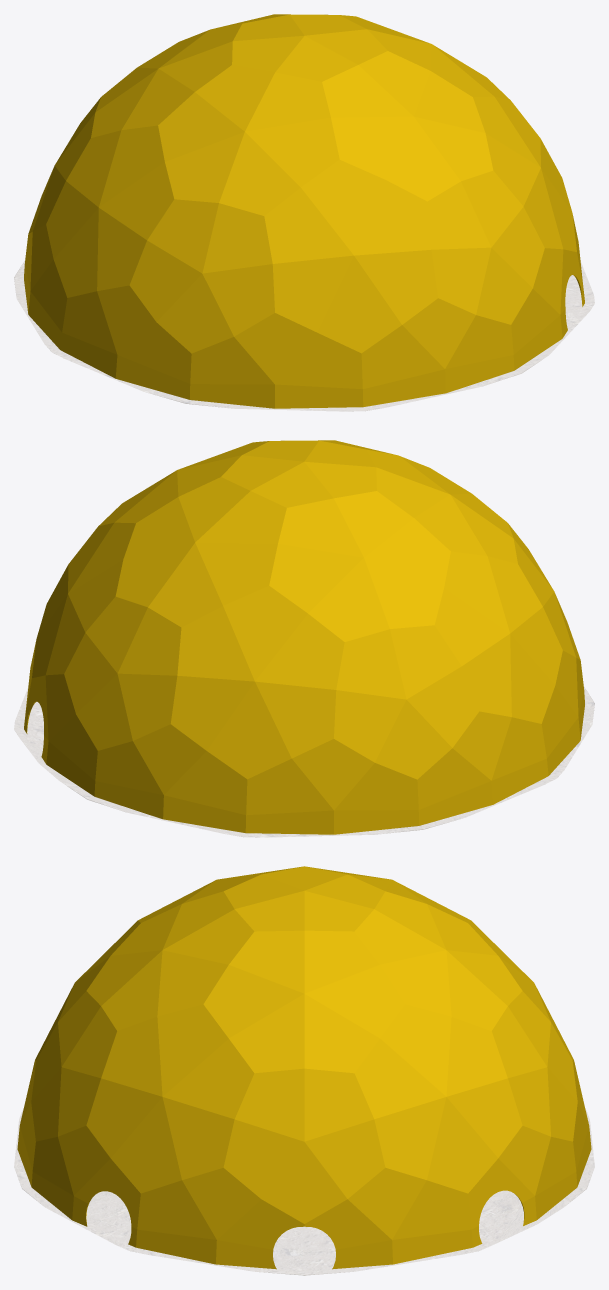
File: EgyptDome.fbx
3 views of the same model, one above another, from view 1: azimuth 30°, elevation 25°; view 2: azimuth 150°, elevation 25°; view 3: azimuth 270°, elevation 25° (orthographic).
Visible parts, largest first — view 1: Icosphere, Plane; view 2: Icosphere, Plane; view 3: Icosphere, Plane.
Part boxes in pixels (x1=…): Icosphere: x1=24, y1=14, x2=584, y2=408; Plane: x1=14, y1=261, x2=594, y2=411; Icosphere: x1=24, y1=440, x2=584, y2=834; Plane: x1=14, y1=687, x2=594, y2=837; Icosphere: x1=17, y1=866, x2=591, y2=1269; Plane: x1=14, y1=1111, x2=594, y2=1275.
Bounding box in the file's own units: 187 × 90.07 × 183.
Materials: 3 (2 with a texture image).
